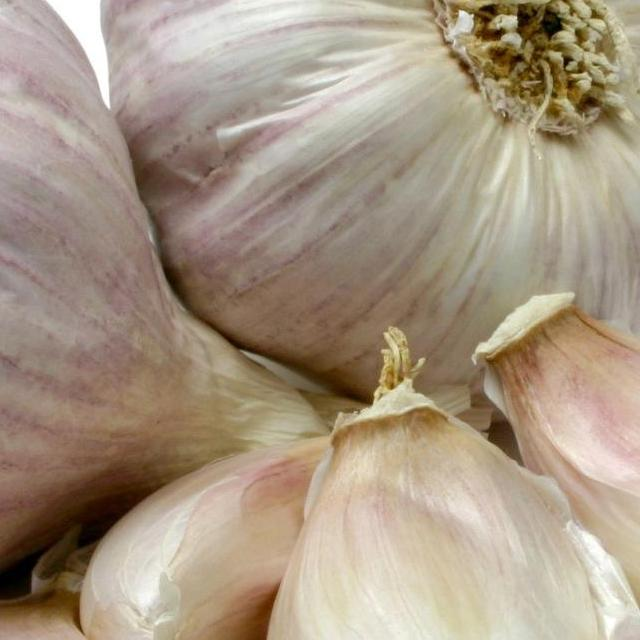garlic: (118, 0, 640, 303), (295, 399, 543, 640)
